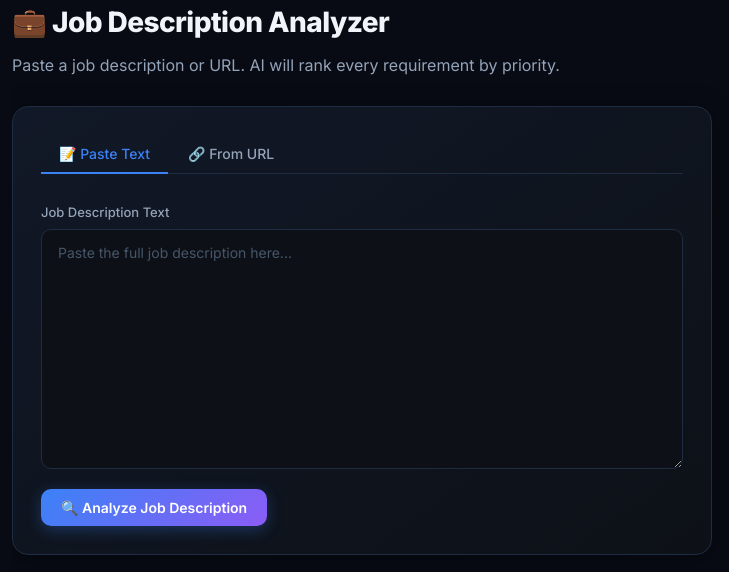
Test case: JobPage - Input State › switches to URL mode
Click the button "🔗 From URL": point(231, 155) [170,135,292,174]
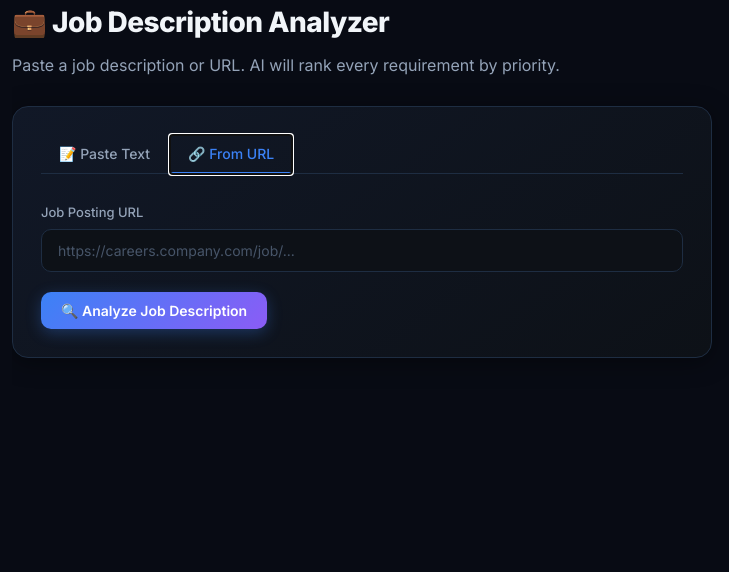
Now the field with placeholder "https://careers.company.com/job/..." is shown, box [41,229,683,272]
